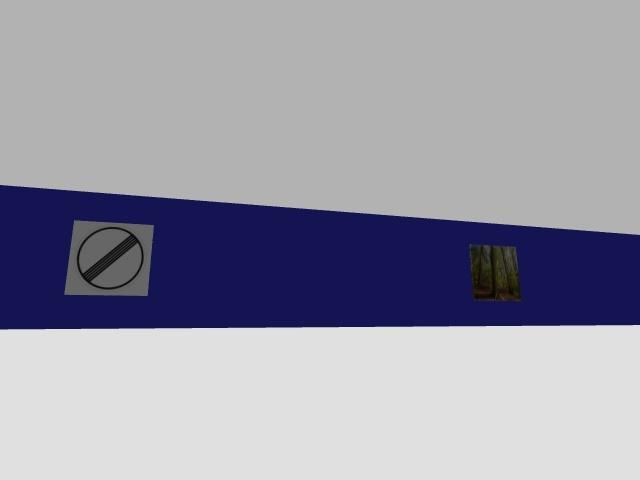fastsign: (64, 220, 153, 295)
